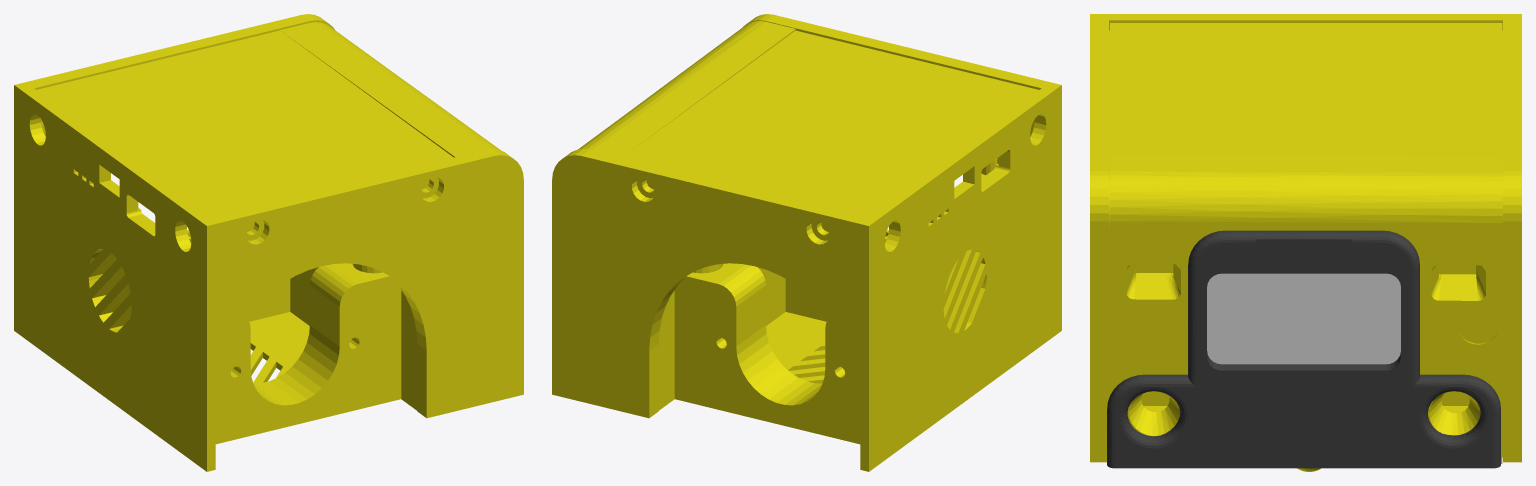
The model's file is edubot_base.dae.
The picture shows the model from 3 angles, left to right: view 1: azimuth 30°, elevation 25°; view 2: azimuth 150°, elevation 25°; view 3: azimuth 270°, elevation 25°; orthographic projection. The views are drawn at different scales.
Parts seen in each view (by area): view 1: edubot; view 2: edubot; view 3: edubot.
Boxes of the visible parts, x1,y1,x2,y2 form: edubot: [14, 14, 523, 471]; edubot: [552, 14, 1061, 471]; edubot: [1090, 14, 1521, 471].
Size of the model in its own units: 55.72 by 57 by 45.61.
